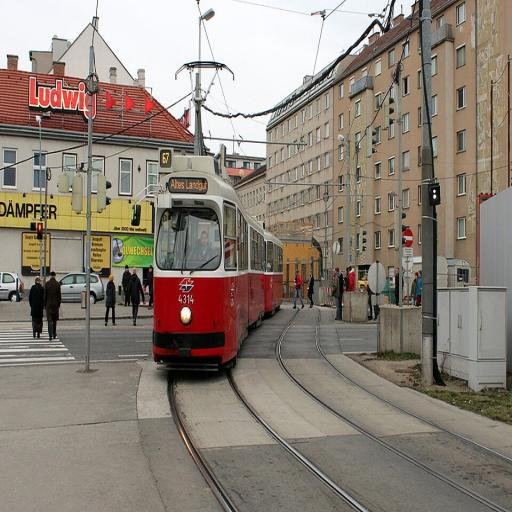E2-Tram: (150, 146, 284, 380)
